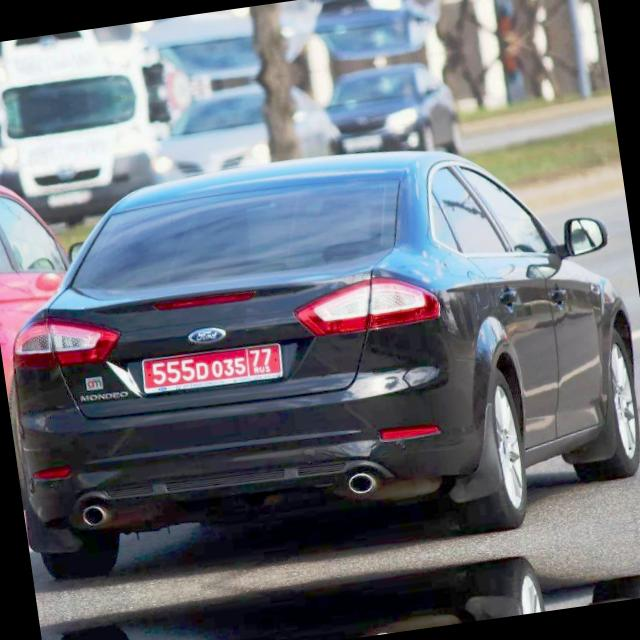diplomatic: (136, 333, 288, 402)
